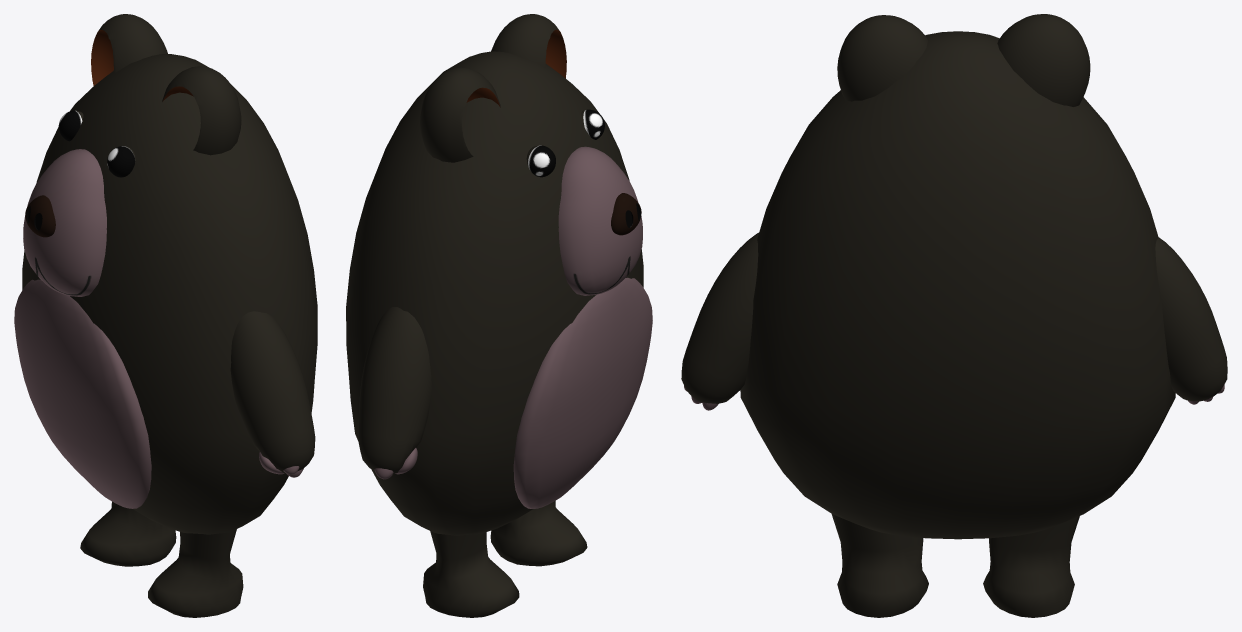
The model's file is karhu.glb.
3 renders of one model, left to right at view 1: azimuth 30°, elevation 25°; view 2: azimuth 150°, elevation 25°; view 3: azimuth 270°, elevation 25°, orthographic. The views are drawn at different scales.
Bounding box in the file's own units: 3.89 × 7.85 × 6.66.
2 materials, 2 textured.
